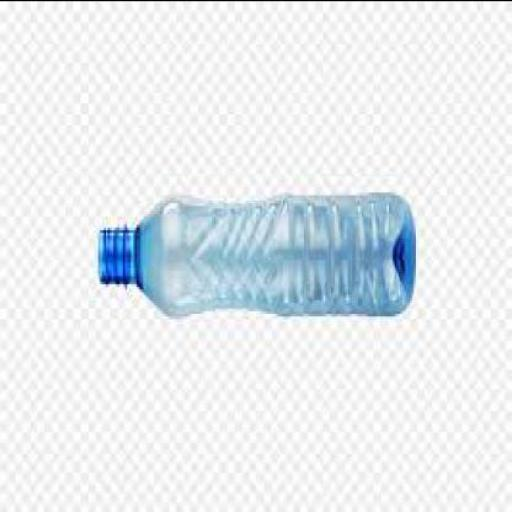plastic: (98, 186, 414, 312)
